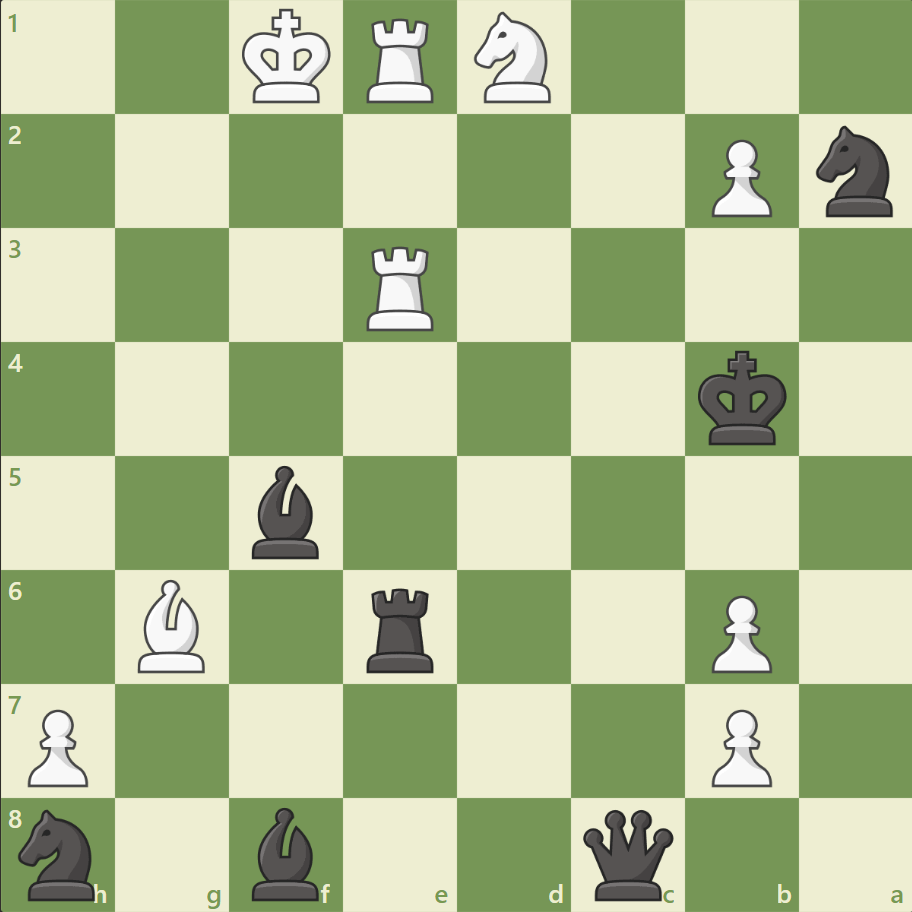B: (131, 574, 215, 676)
K: (238, 4, 338, 112)
N: (465, 7, 562, 110)
P: (701, 700, 776, 791), (20, 700, 95, 791), (701, 586, 776, 677), (701, 132, 776, 223)
R: (360, 239, 442, 336), (360, 12, 442, 109)
b: (244, 801, 328, 904), (244, 460, 328, 563)
k: (692, 344, 792, 452)
n: (11, 802, 108, 904), (806, 121, 903, 223)
q: (578, 804, 677, 903)
r: (360, 579, 442, 676)
